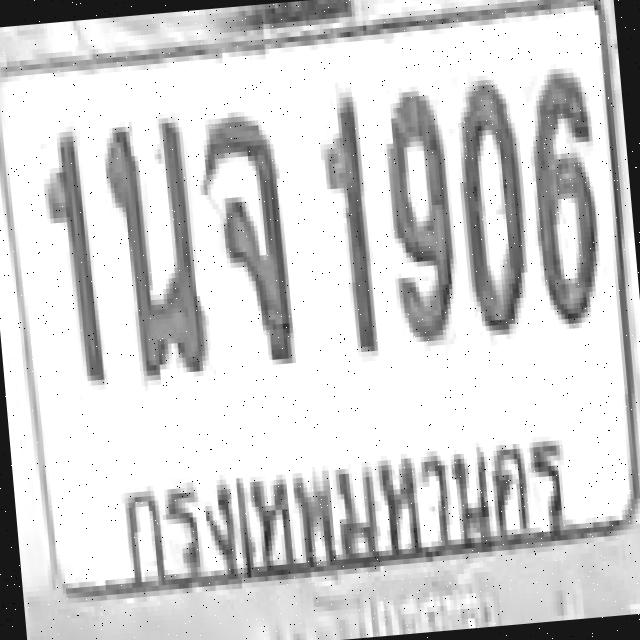0: (448, 72, 534, 337)
1: (37, 125, 106, 388), (314, 91, 380, 359)
17ChorChan: (196, 108, 296, 369)
34NorNu: (98, 110, 210, 382)
6: (523, 63, 608, 328)
9: (378, 82, 460, 346)
Bangkok: (106, 412, 581, 592)
